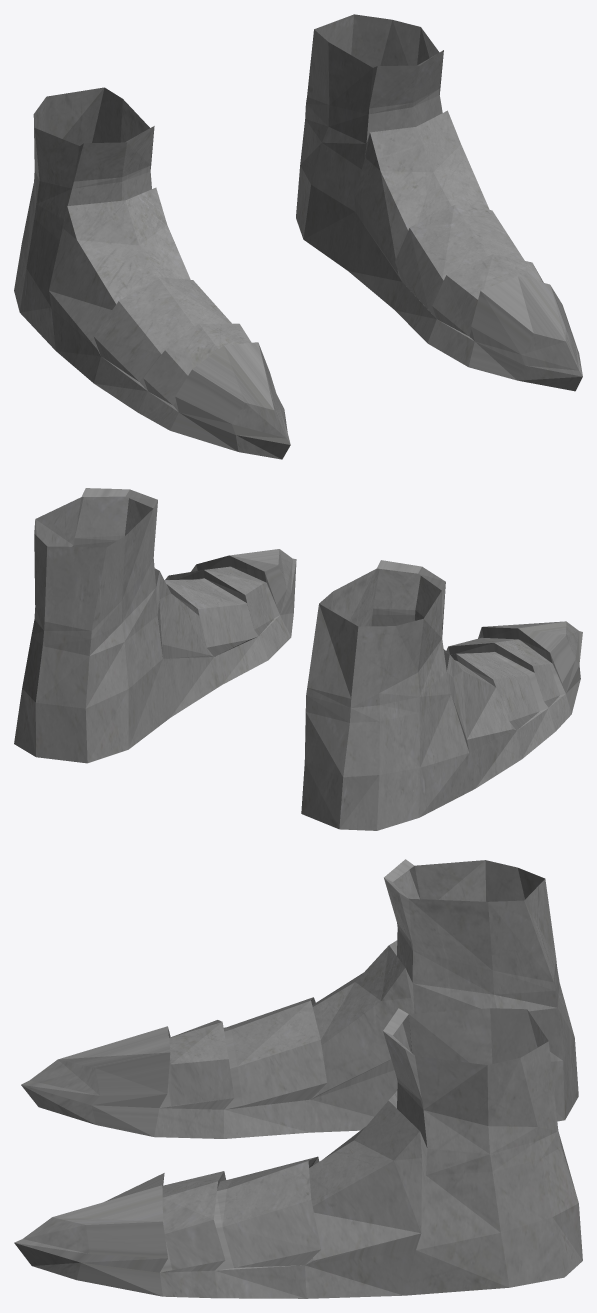
File: knightsBoots.fbx
The picture shows the model from 3 angles, top to bottom: view 1: azimuth 30°, elevation 25°; view 2: azimuth 150°, elevation 25°; view 3: azimuth 270°, elevation 25°; orthographic projection. The views are drawn at different scales.
Visible parts, largest first — view 1: KnightShoes; view 2: KnightShoes; view 3: KnightShoes.
Boxes of the visible parts, x1,y1,x2,y2 form: KnightShoes: [14, 14, 582, 459]; KnightShoes: [14, 488, 582, 830]; KnightShoes: [14, 859, 582, 1298].
Size of the model in its own units: 35.77 by 17.17 by 36.91.
Materials: 1 (1 with a texture image).
